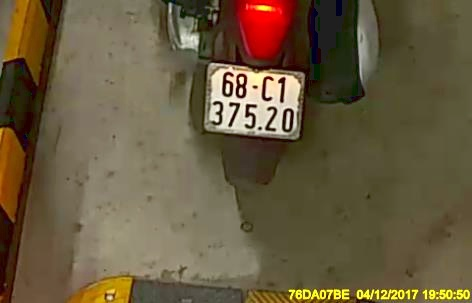plate: (207, 62, 301, 139)
